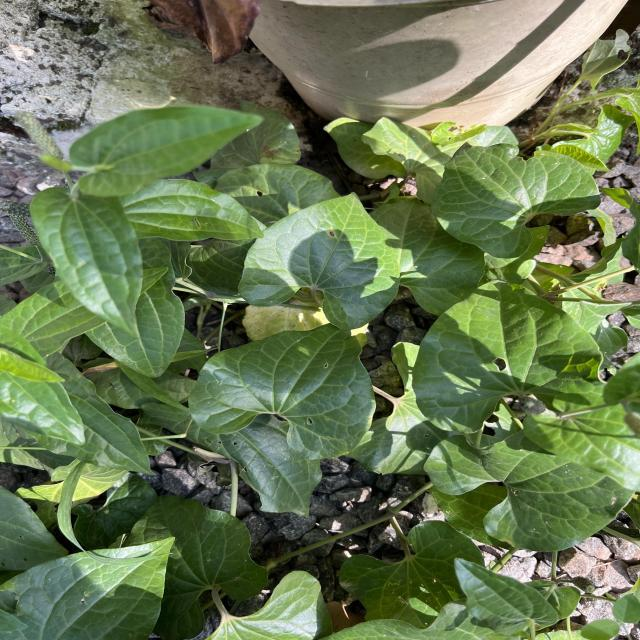Piper longum: (410, 274, 608, 434), (186, 322, 377, 463), (234, 188, 402, 332), (428, 138, 604, 261)
